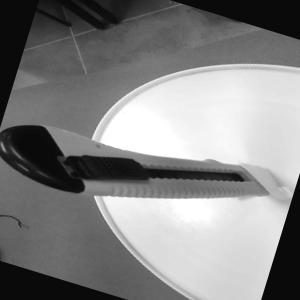estilete: (0, 89, 298, 255)
